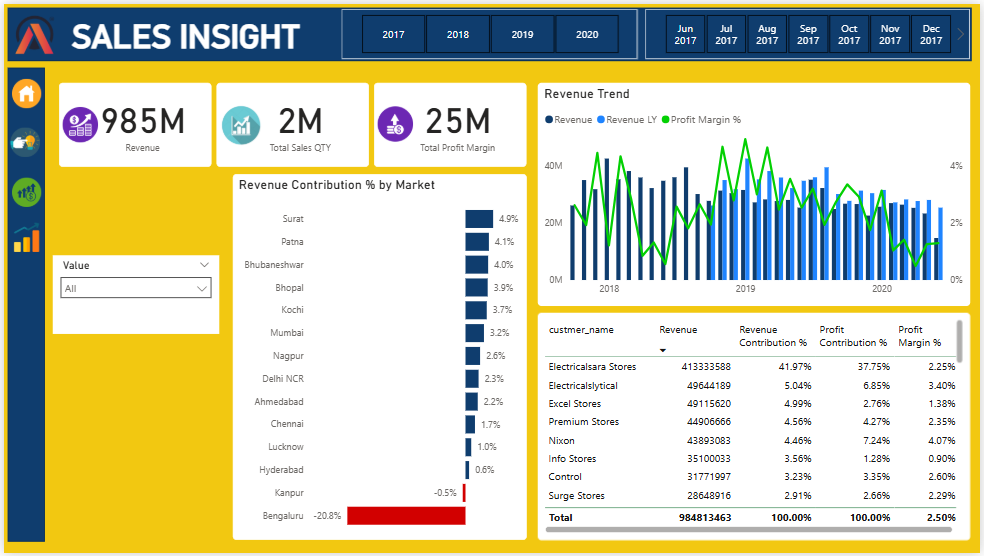

The dashboard page shown, as its layout file describes it:
{"tool":"powerbi","page":{"name":"Performance Insight","canvas":[1280,720],"ordinal":3},"visuals":[{"type":"barChart","title":"Revenue Contribution % by Market","fields":{"Category":["sales markets.markets_name"],"Y":["Profit Target.Profit Margin %"]},"box":[300.5,223.7,385.6,480.3],"z":0},{"type":"tableEx","title":" ","fields":{"Values":["sales customers.custmer_name","Profit Target.Revenue","Profit Target.Revenue Contribution %","Profit Target.Profit Contribution %","Profit Target.Profit Margin %"]},"box":[700,405.7,567.1,298.6],"z":1000},{"type":"lineClusteredColumnComboChart","title":"Revenue Trend","fields":{"Category":["sales date.cy_date"],"Y":["Profit Target.Revenue","Profit Target.Revenue LY"],"Y2":["Profit Target.Profit Margin %"]},"box":[700,102.9,567.1,292.9],"z":2000},{"type":"card","fields":{"Values":["Profit Target.Revenue"]},"box":[71.4,102.9,200,110],"z":3000},{"type":"card","fields":{"Values":["Profit Target.Total Sales QTY"]},"box":[278.6,102.9,200,110],"z":4000},{"type":"shape","box":[5.7,5.7,1264.3,70],"z":5000},{"type":"slicer","fields":{"Values":["sales date.year"]},"box":[443.2,6.9,388.3,65.9],"z":6000},{"type":"slicer","fields":{"Values":["sales date.cy_date"]},"box":[841.4,7.1,425.7,65.7],"z":7000},{"type":"shape","box":[5.7,82.9,48.6,621.4],"z":8000},{"type":"card","fields":{"Values":["Profit Target.Total Profit Margin"]},"box":[485.7,102.9,200,110],"z":9000},{"type":"slicer","fields":{"Values":["Profit Target.Value"]},"box":[63.1,329.3,218.2,102.9],"z":10000},{"type":"image","box":[9.6,4.1,61.7,70],"z":11000},{"type":"textbox","box":[41.2,13.7,395.2,79.6],"z":12000},{"type":"image","box":[2.7,93.3,53.5,48],"z":13000},{"type":"image","box":[0,157.8,53.5,48],"z":14000},{"type":"image","box":[2.7,223.7,53.5,48],"z":15000},{"type":"image","box":[2.7,281.3,53.5,48],"z":16000},{"type":"image","box":[485.8,124.9,56.3,65.9],"z":17000},{"type":"image","box":[208.6,112.5,205.8,91.9],"z":18000},{"type":"image","box":[71.4,126.2,56.3,64.5],"z":19000}]}

Visuals, with their boxes on the page's 1280x720 design canvas (x1, y1, x2, y2). These are canvas units, not pixel positions in the 984x556 screenshot, which may show the page scaled, cropped or inside an application window:
"Revenue Contribution % by Market" barChart: left=300, top=224, right=686, bottom=704
" " tableEx: left=700, top=406, right=1267, bottom=704
"Revenue Trend" lineClusteredColumnComboChart: left=700, top=103, right=1267, bottom=396
card - Profit Target.Revenue: left=71, top=103, right=271, bottom=213
card - Profit Target.Total Sales QTY: left=279, top=103, right=479, bottom=213
shape: left=6, top=6, right=1270, bottom=76
slicer - sales date.year: left=443, top=7, right=832, bottom=73
slicer - sales date.cy_date: left=841, top=7, right=1267, bottom=73
shape: left=6, top=83, right=54, bottom=704
card - Profit Target.Total Profit Margin: left=486, top=103, right=686, bottom=213
slicer - Profit Target.Value: left=63, top=329, right=281, bottom=432
image: left=10, top=4, right=71, bottom=74
textbox: left=41, top=14, right=436, bottom=93
image: left=3, top=93, right=56, bottom=141
image: left=0, top=158, right=54, bottom=206
image: left=3, top=224, right=56, bottom=272
image: left=3, top=281, right=56, bottom=329
image: left=486, top=125, right=542, bottom=191
image: left=209, top=112, right=414, bottom=204
image: left=71, top=126, right=128, bottom=191
